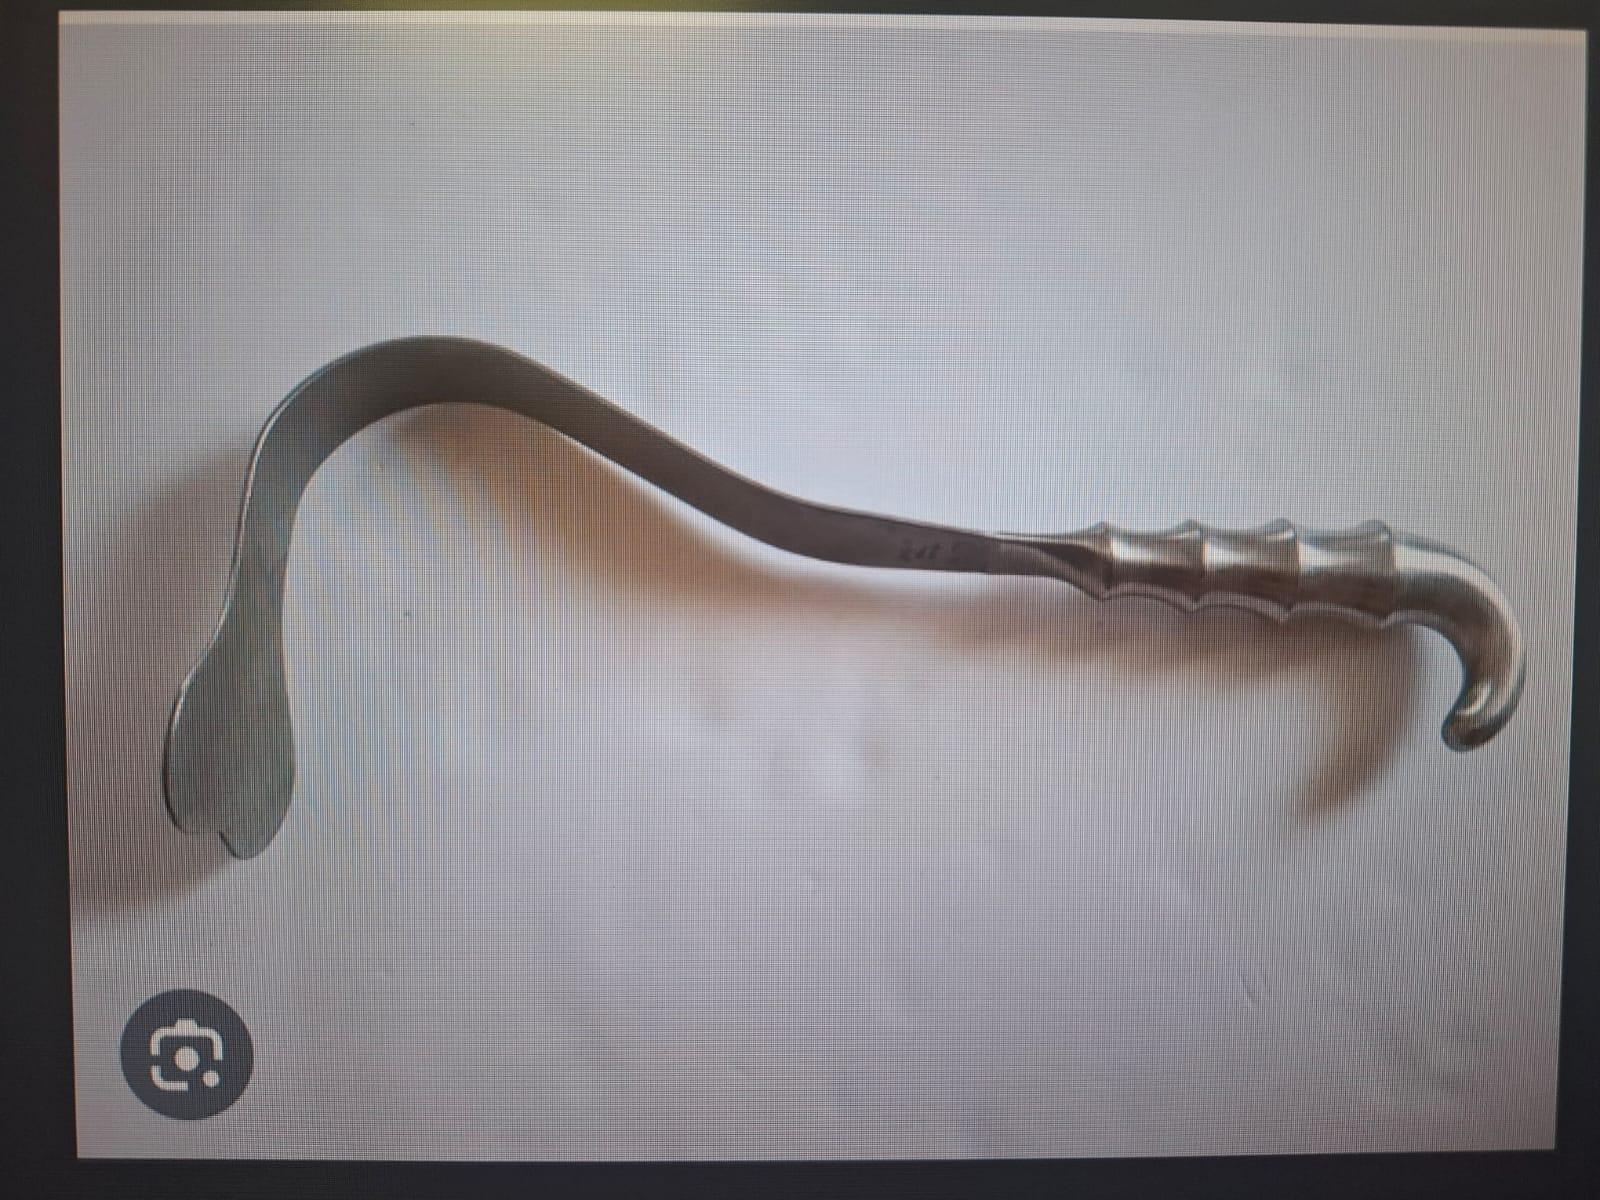Harrington Retractor: (152, 314, 1529, 894)
